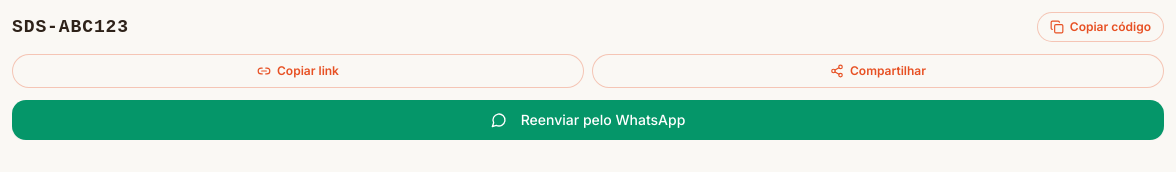
Test: TrackingShareActions › copies the tracking link to the clipboard
Click the button "Copiar link": {"x": 298, "y": 71} x1=12 y1=54 x2=584 y2=88
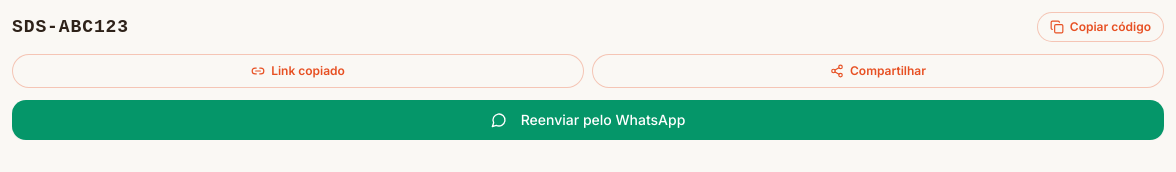
Check: the button "Link copiado" is shown, box x1=12 y1=54 x2=584 y2=88
